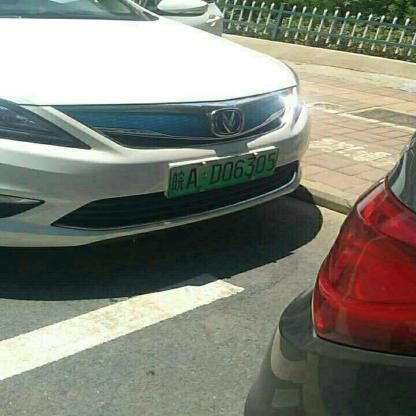lp: (164, 147, 280, 194)
